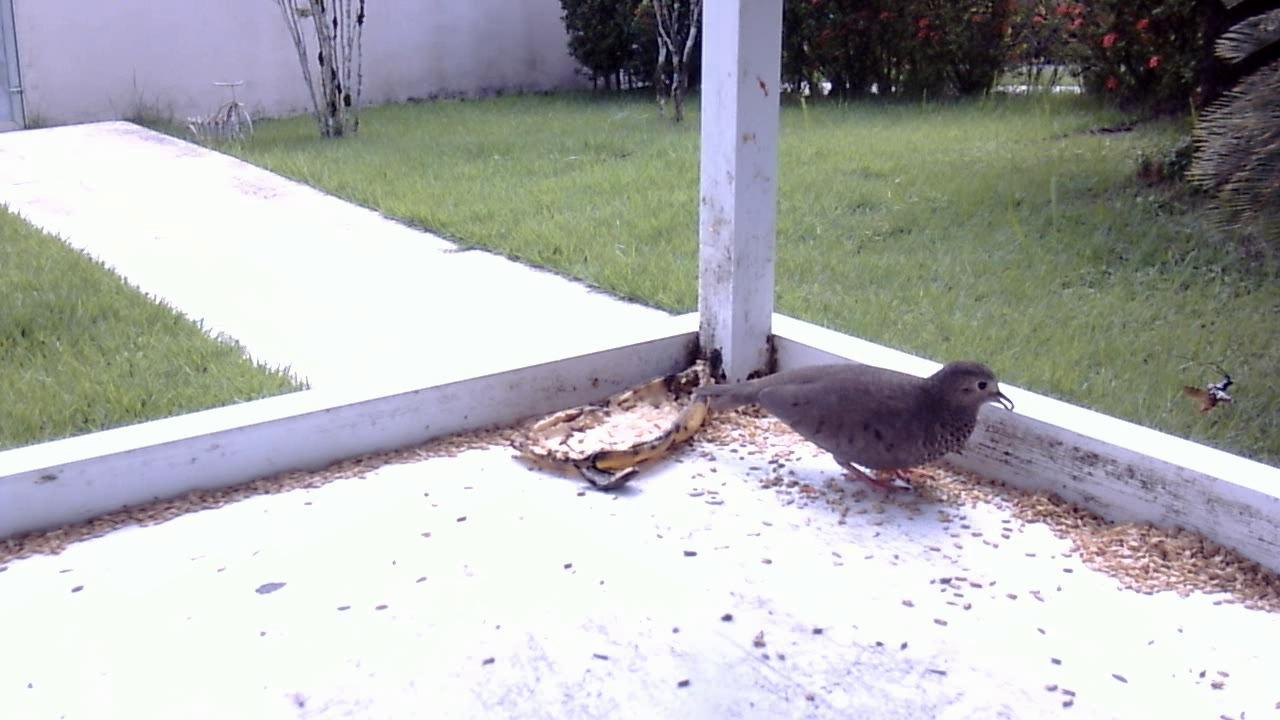rolinha: (594, 340, 1018, 505)
